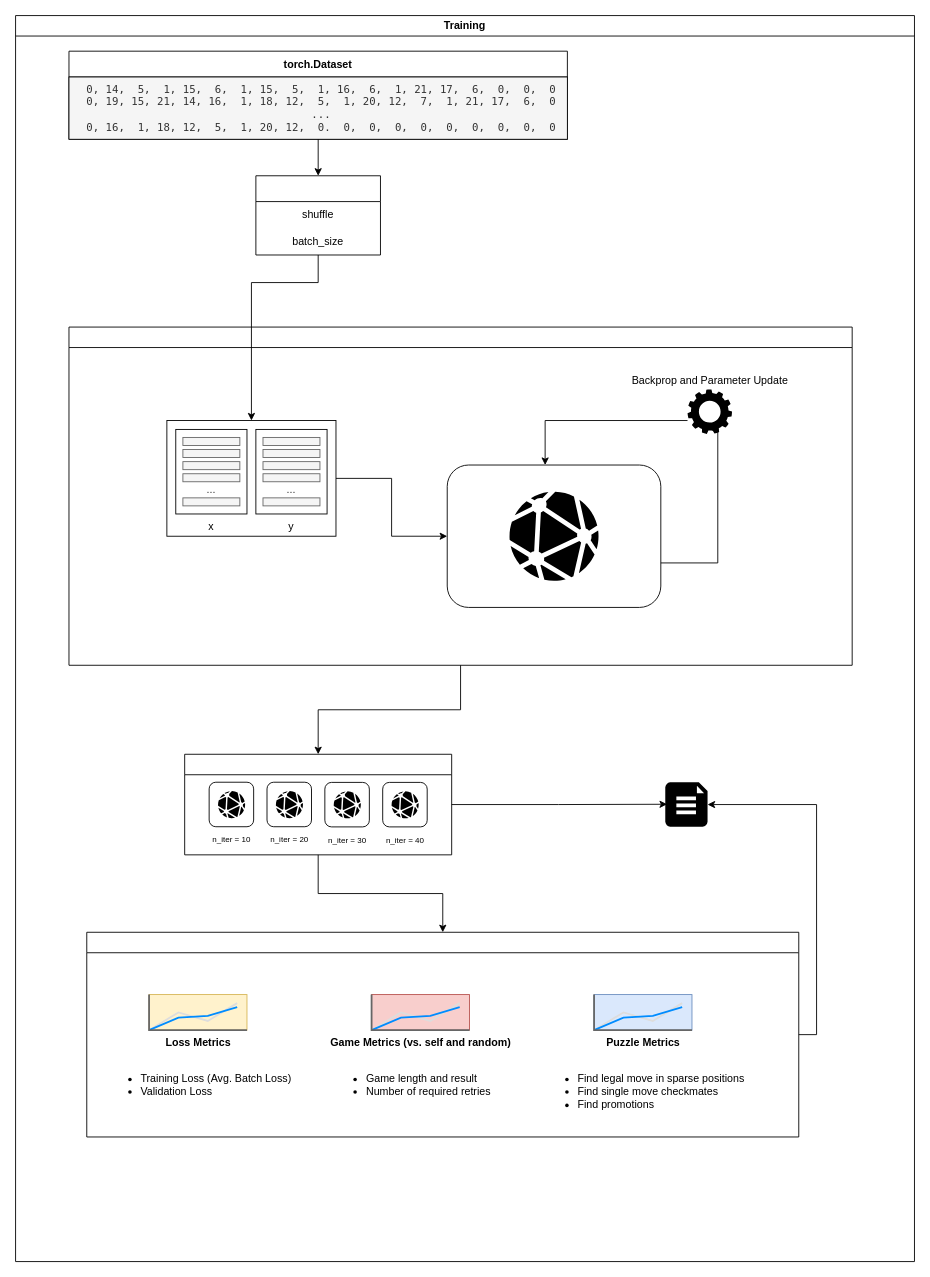
Image size: 930x1277. Some labels were removed from this diagram. The shapes that lost their labels are listed below. From the top down, each one's box as (x1, y1, x2, y2) in pixels, then its label:
(255, 175, 380, 255): torch.DataLoader
(166, 420, 336, 536): Batch
(68, 326, 852, 665): Training Loop
(509, 491, 598, 580): Transformer
(184, 753, 452, 855): Checkpoints
(665, 782, 707, 826): Save to Disk
(86, 931, 799, 1137): Evaluation
